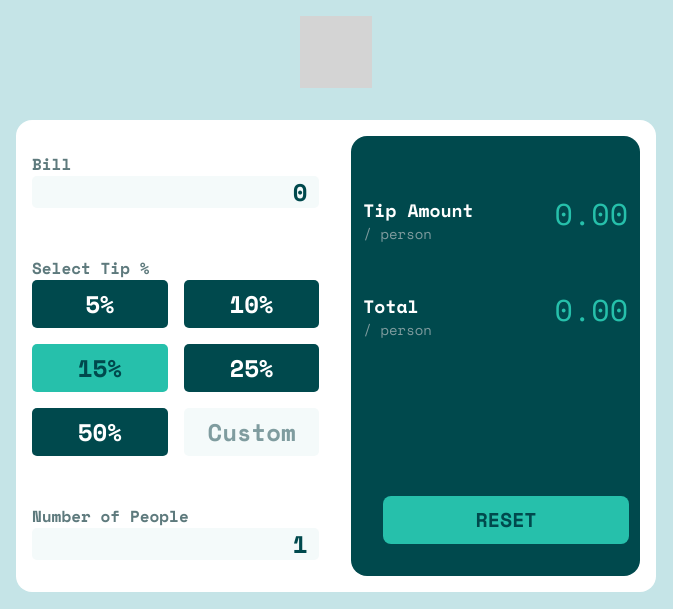
Test: App › resets the input fields by pressing the reset button
Type "100" into the field labelled "Bill" at (176, 192), box [32,176,319,208]
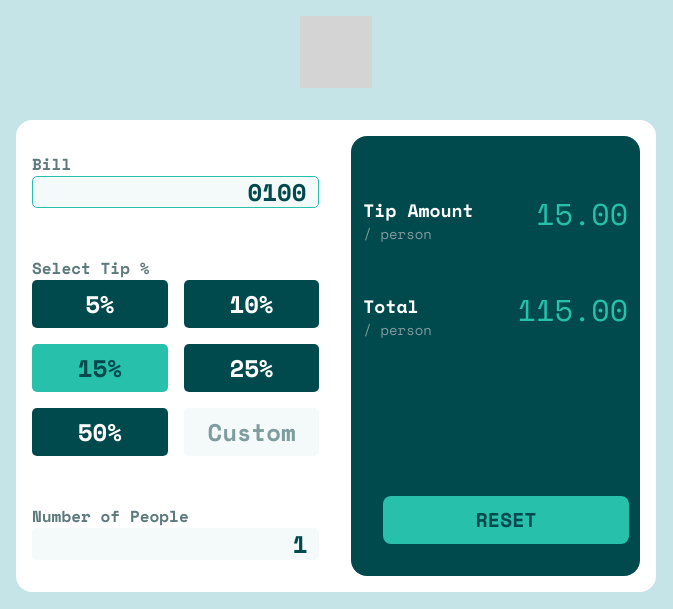
Type "2" into the field labelled "Number of People" at (176, 544), box [32,528,319,560]
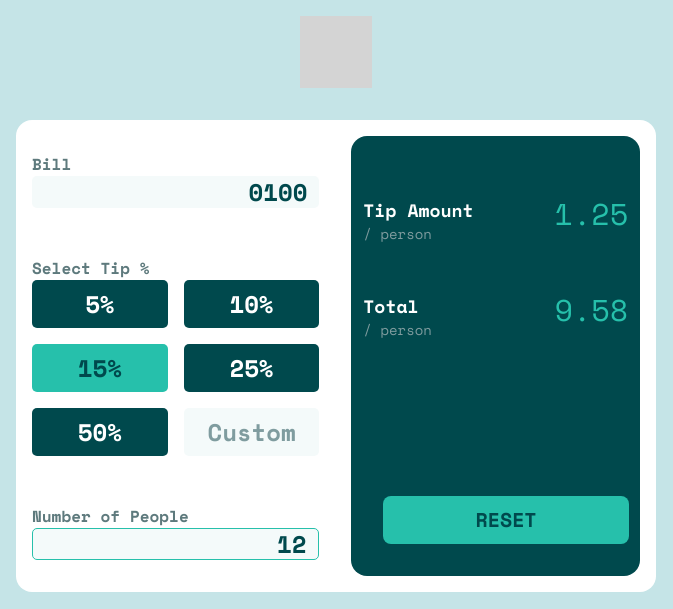
Click the radio button labelled "25%" at (252, 368), box [184,344,319,392]
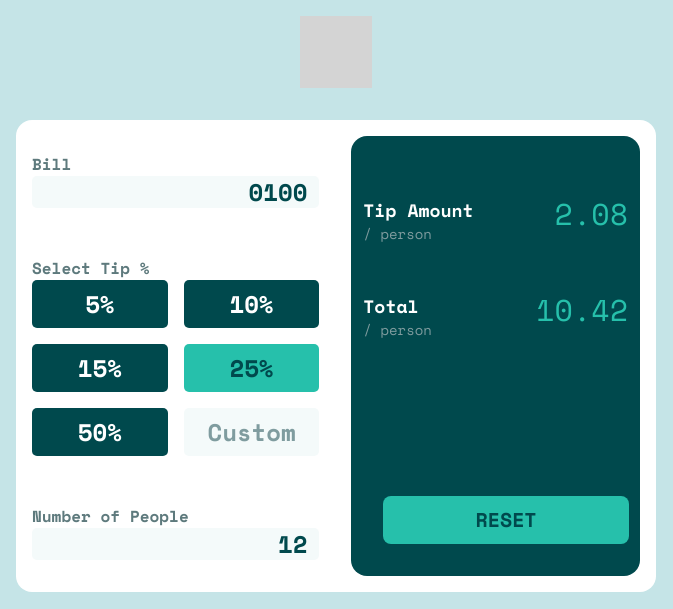
Click the button "Reset" at (506, 520), box [383,496,629,544]
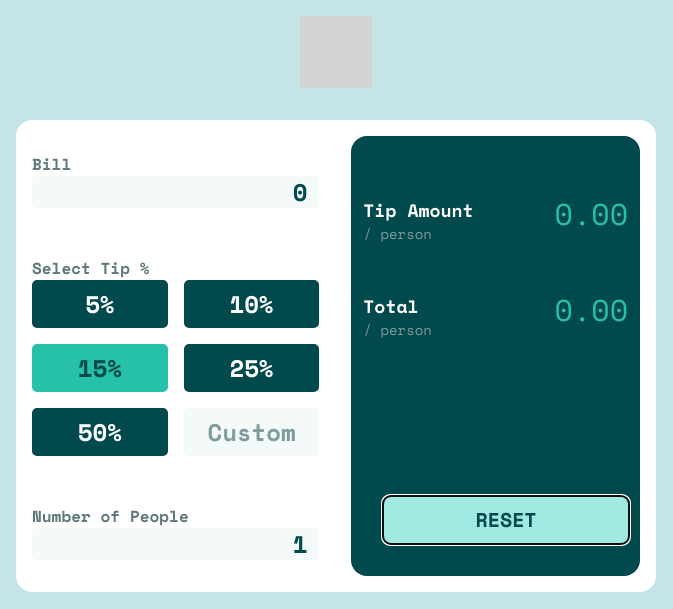
Check: the radio button labelled "25%" is not checked, box [184,344,319,392]
Check: the radio button labelled "15%" is checked, box [32,344,168,392]
